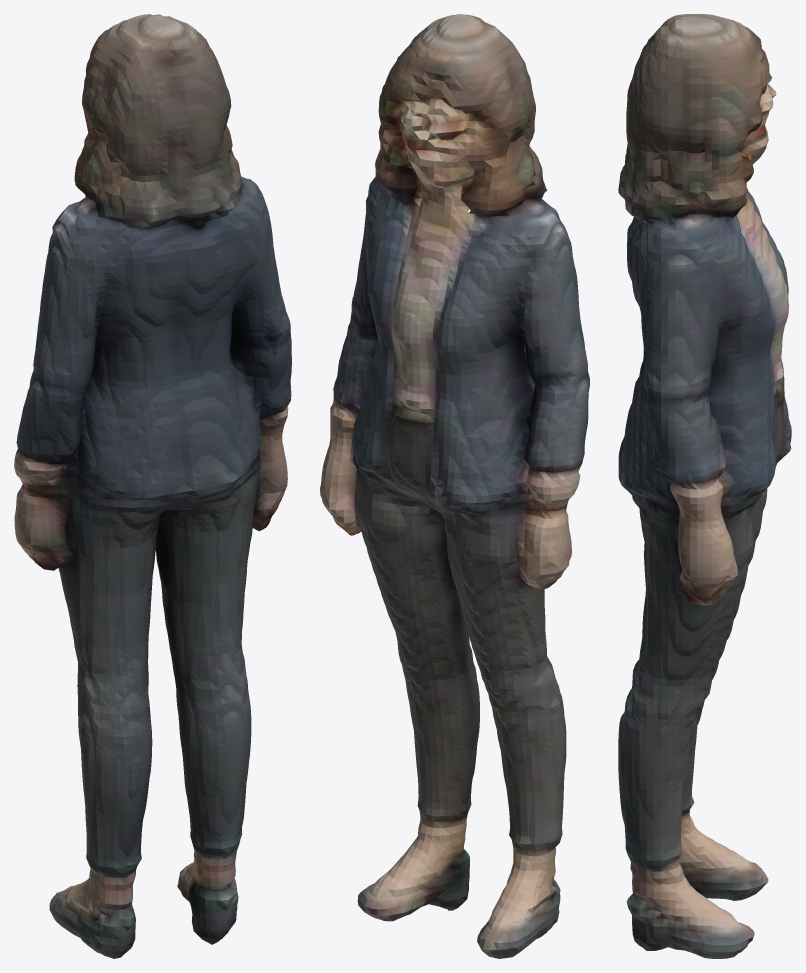
Rendered from guest-v0.glb.
The picture shows the model from 3 angles, left to right: view 1: azimuth 30°, elevation 25°; view 2: azimuth 150°, elevation 25°; view 3: azimuth 270°, elevation 25°; orthographic projection.
Parts seen in each view (by area): view 1: world; view 2: world; view 3: world.
Part boxes in pixels (left/top/right/bottom): world: left=14, top=14, right=291, bottom=958; world: left=320, top=14, right=589, bottom=958; world: left=618, top=14, right=791, bottom=958.
Size of the model in its own units: 0.2785 by 0.9464 by 0.1626.
